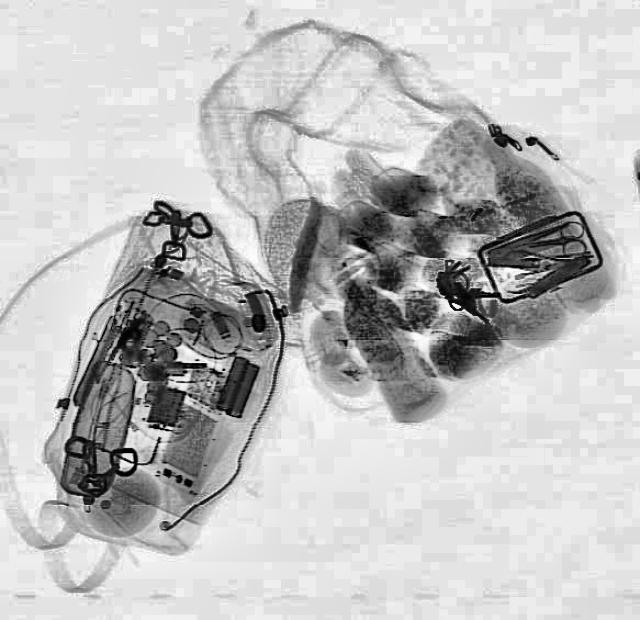Scissors: (516, 218, 586, 266)
